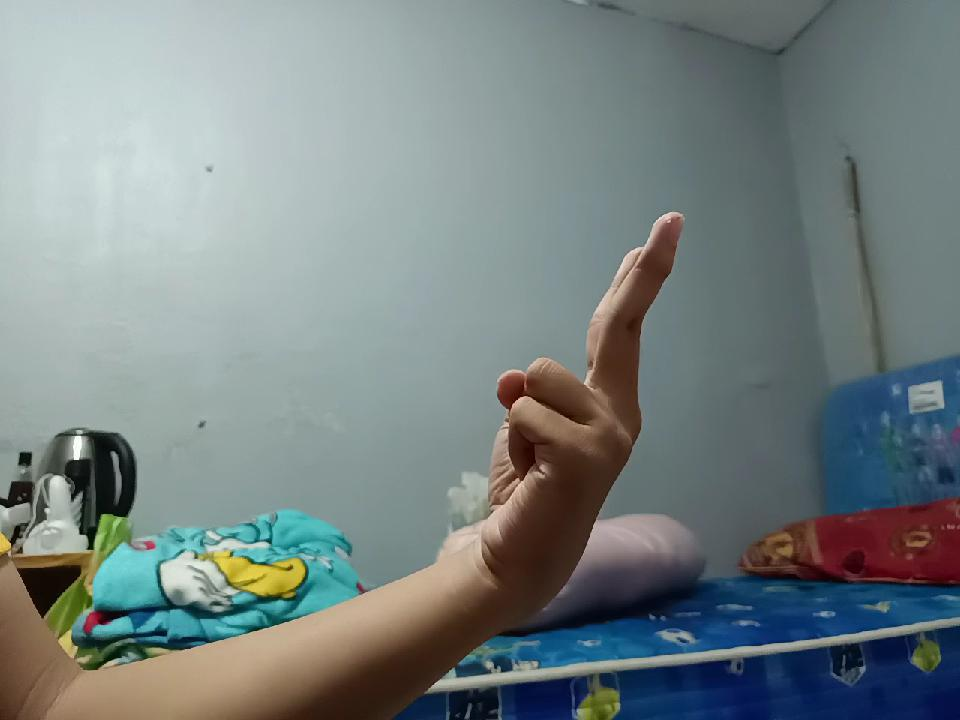scissors: (475, 193, 677, 618)
